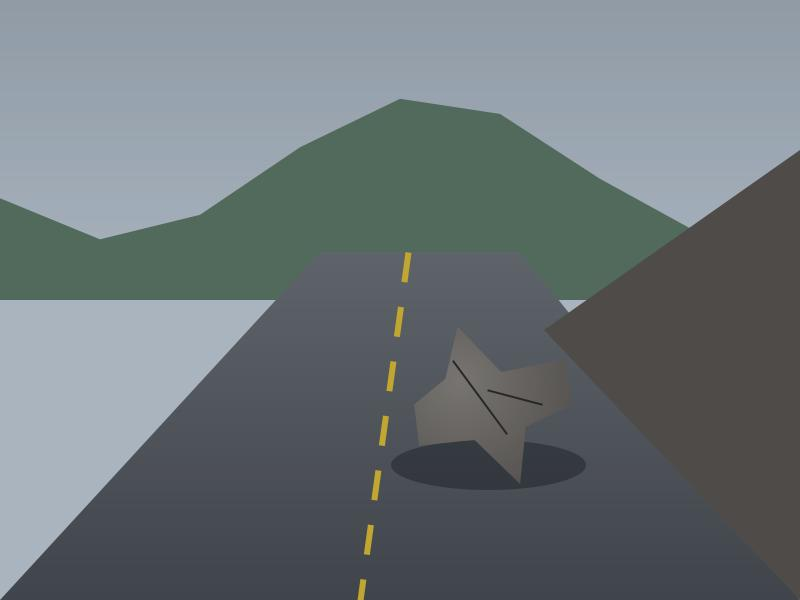ROAD_OBSTACLE: (401, 333, 576, 476)
